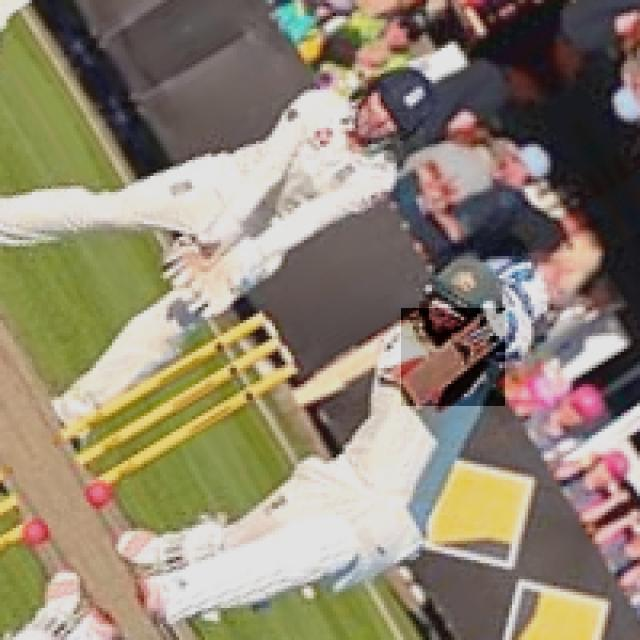bat: (399, 308, 504, 412)
toe: (394, 371, 418, 414)
